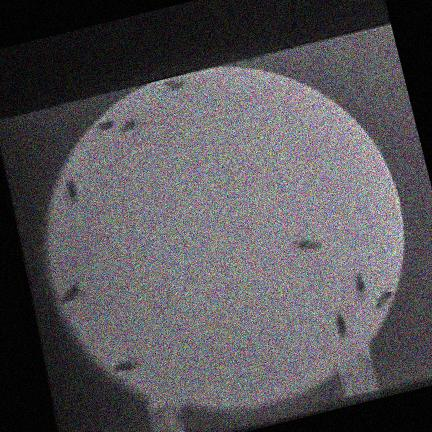fly: (375, 285, 392, 307), (113, 358, 139, 371), (353, 272, 365, 298), (60, 285, 78, 302), (65, 178, 77, 202), (293, 239, 321, 249), (335, 313, 346, 338), (120, 119, 137, 133), (165, 78, 183, 90), (97, 120, 112, 129)
